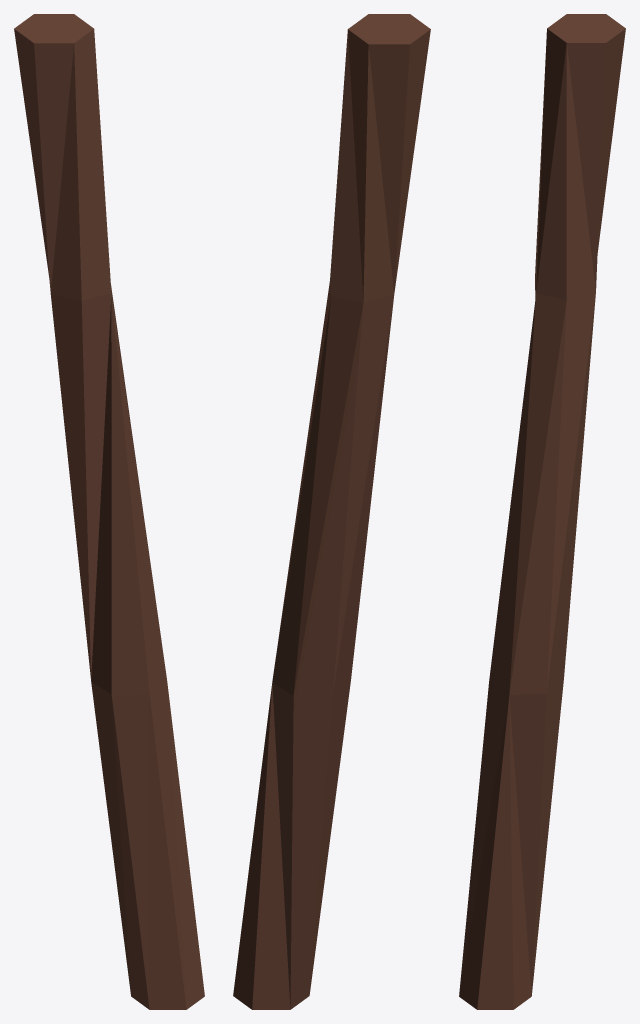
File: Wooden Stick_5.fbx
3 views of the same model, side by side, from view 1: azimuth 30°, elevation 25°; view 2: azimuth 210°, elevation 25°; view 3: azimuth 270°, elevation 25° (orthographic). The views are drawn at different scales.
Parts seen in each view (by area): view 1: Wooden Stick_5.001; view 2: Wooden Stick_5.001; view 3: Wooden Stick_5.001.
Part boxes in pixels (<box>): Wooden Stick_5.001: <box>14,14,204,1009</box>; Wooden Stick_5.001: <box>233,14,430,1009</box>; Wooden Stick_5.001: <box>459,14,625,1009</box>.
Size of the model in its own units: 0.2335 by 1.69 by 0.2734.
